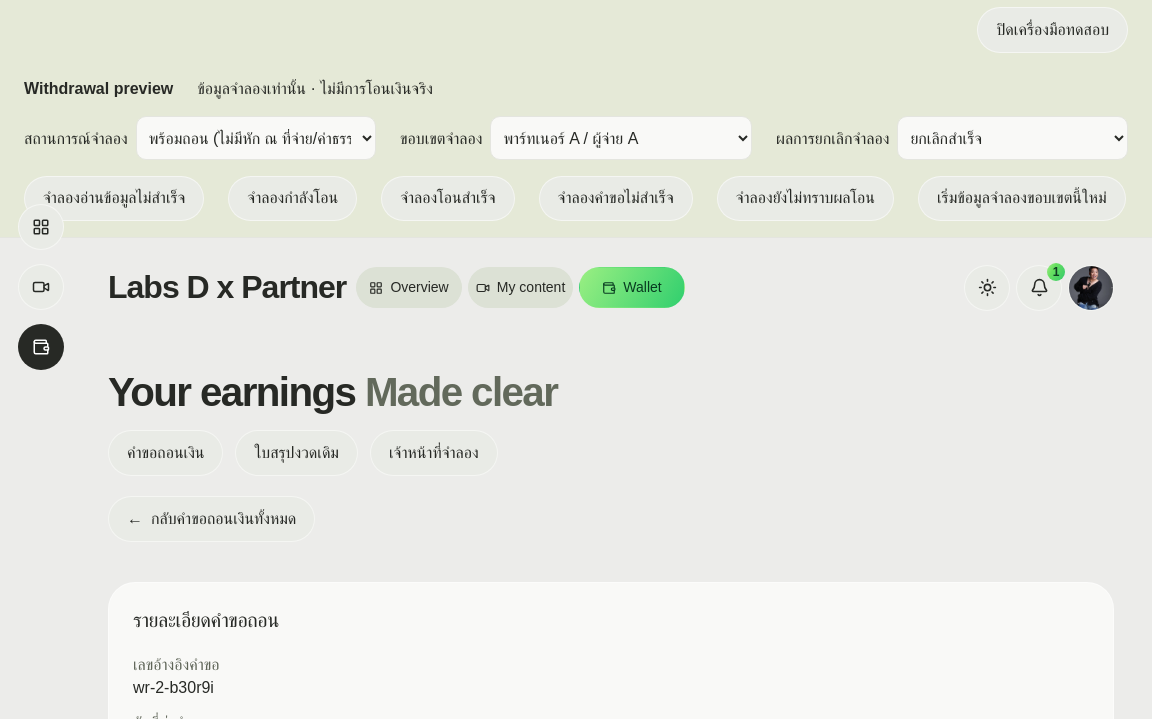
Test: WU02 actual-runtime preview composition › shows the actual adapter cancellation mode lost_after_accept without inventing payment success
The width and height of the screenshot is (1152, 719).
Select "ยกเลิกสำเร็จแต่ผลตอบกลับสูญหาย" in the dropdown labelled "ผลการยกเลิกจำลอง" at point(1013, 138), box [897,116,1128,160]
(page scrolled)
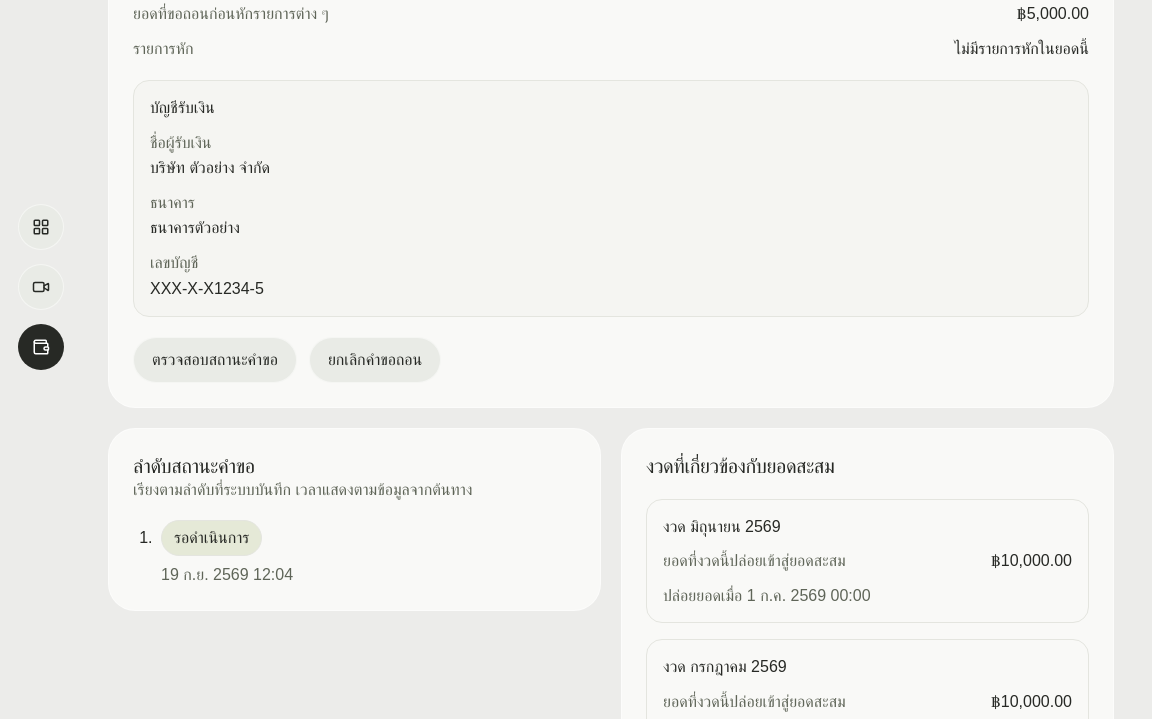
Click the button "ยกเลิกคำขอถอน" at point(375, 360), box [309,337,441,383]
(page scrolled)
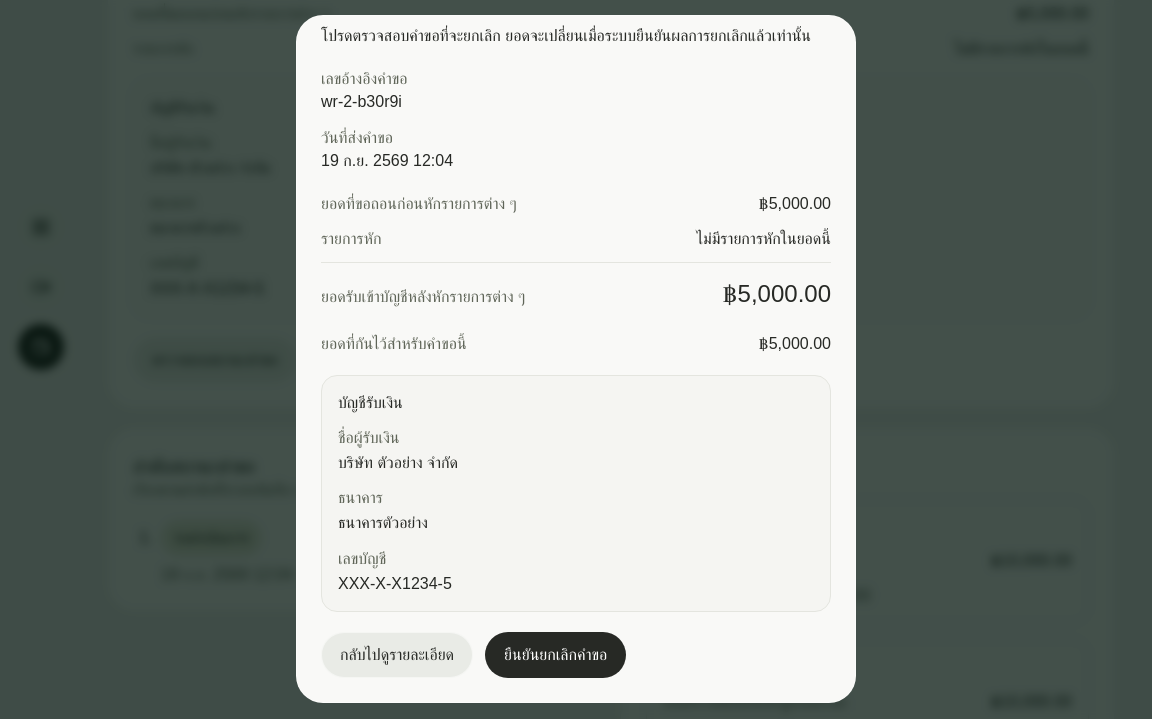
Click the button "ยืนยันยกเลิกคำขอ" at point(556, 655), box [485,632,626,678]
(page scrolled)
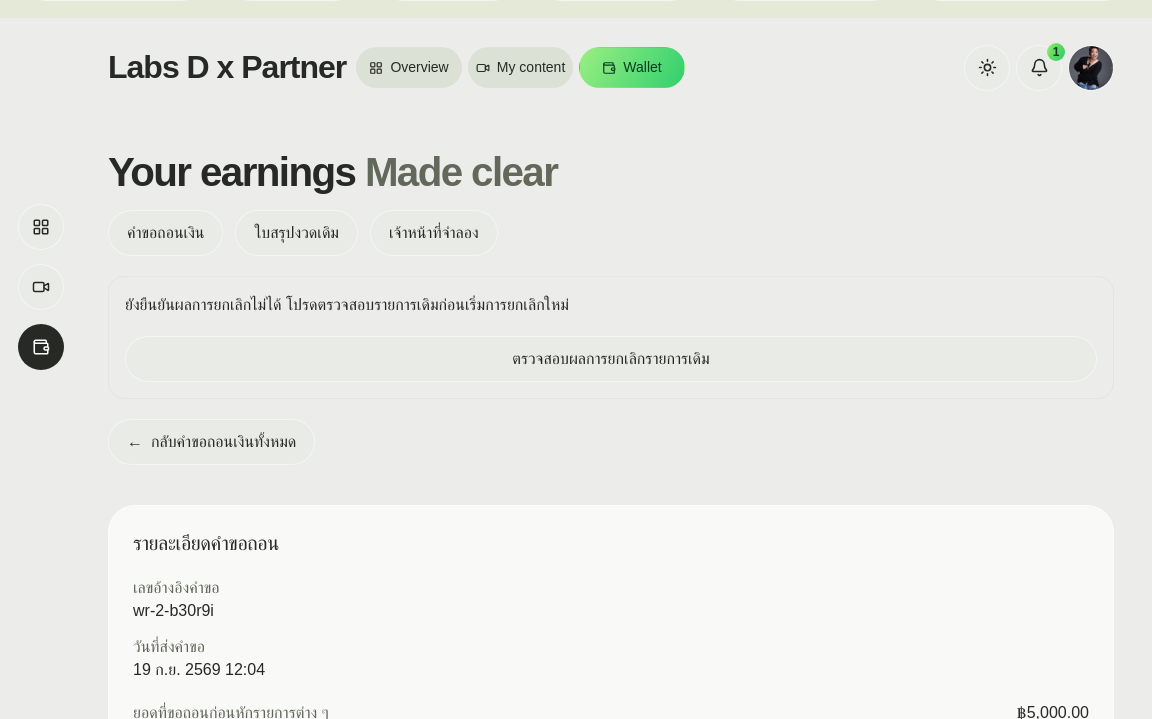
Result: the button "ตรวจสอบผลการยกเลิกรายการเดิม" is enabled
Click the button "ตรวจสอบผลการยกเลิกรายการเดิม" at point(611, 359), box [125,336,1097,382]
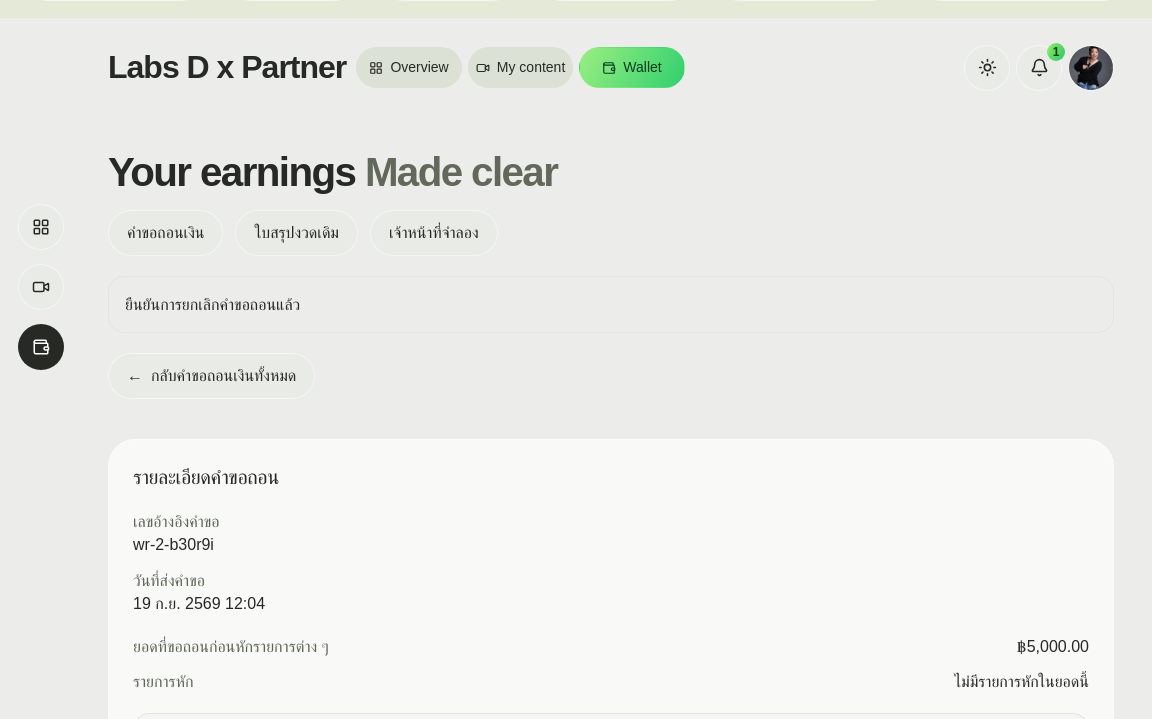
Result: the text "ยืนยันการยกเลิกคำขอถอนแล้ว" is shown at [125,296,300,313]
